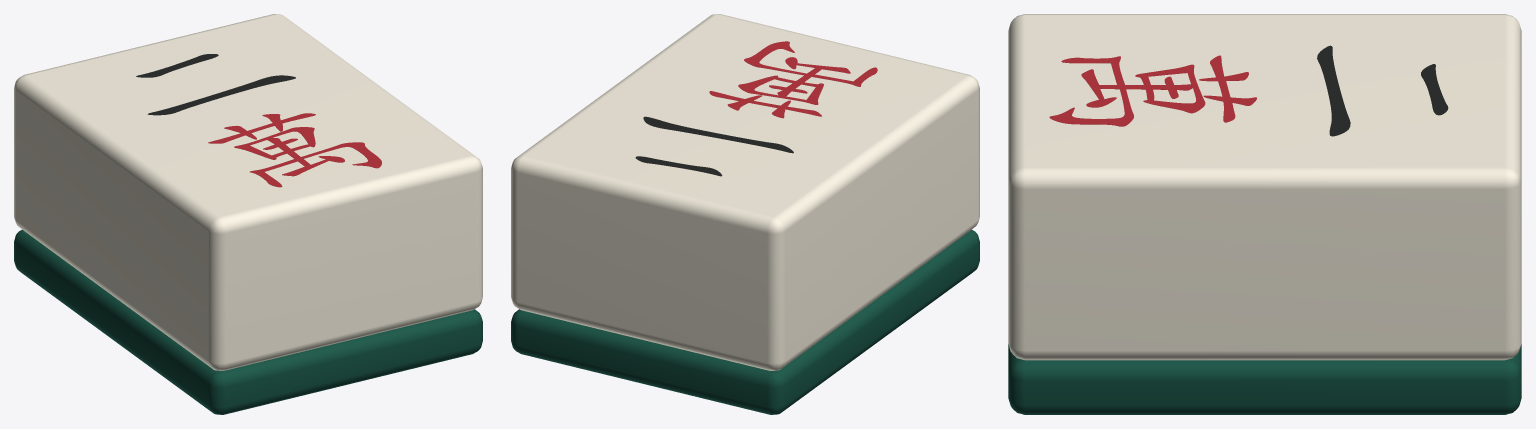
Rendered from wan-02.glb.
The picture shows the model from 3 angles, left to right: view 1: azimuth 30°, elevation 25°; view 2: azimuth 150°, elevation 25°; view 3: azimuth 270°, elevation 25°; orthographic projection. The views are drawn at different scales.
Parts seen in each view (by area): view 1: wan-02_ivory, wan-02_back, wan-02_face_inlays; view 2: wan-02_ivory, wan-02_back, wan-02_face_inlays; view 3: wan-02_ivory, wan-02_back, wan-02_face_inlays.
Boxes of the visible parts, left/top/right/bottom form: wan-02_ivory: left=14, top=14, right=482, bottom=370; wan-02_back: left=14, top=229, right=482, bottom=414; wan-02_face_inlays: left=136, top=54, right=381, bottom=187; wan-02_ivory: left=511, top=14, right=979, bottom=370; wan-02_back: left=511, top=229, right=979, bottom=414; wan-02_face_inlays: left=635, top=41, right=877, bottom=176; wan-02_ivory: left=1008, top=14, right=1521, bottom=360; wan-02_back: left=1008, top=344, right=1521, bottom=414; wan-02_face_inlays: left=1049, top=45, right=1448, bottom=136.
Bounding box in the file's own units: 0.026 × 0.018 × 0.034.
